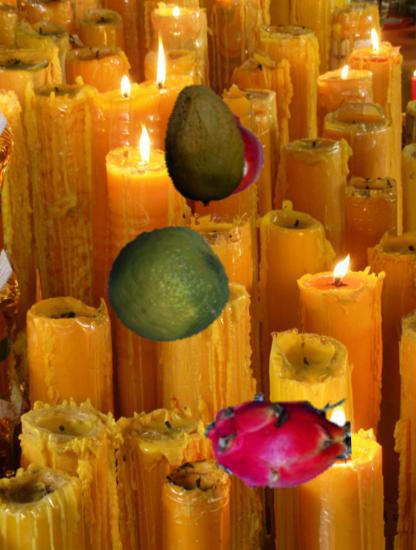Limes: (106, 225, 228, 347)
Papaya: (142, 83, 267, 208)
Pitahaya: (202, 364, 352, 514)
Pomegranate: (177, 111, 265, 199)
